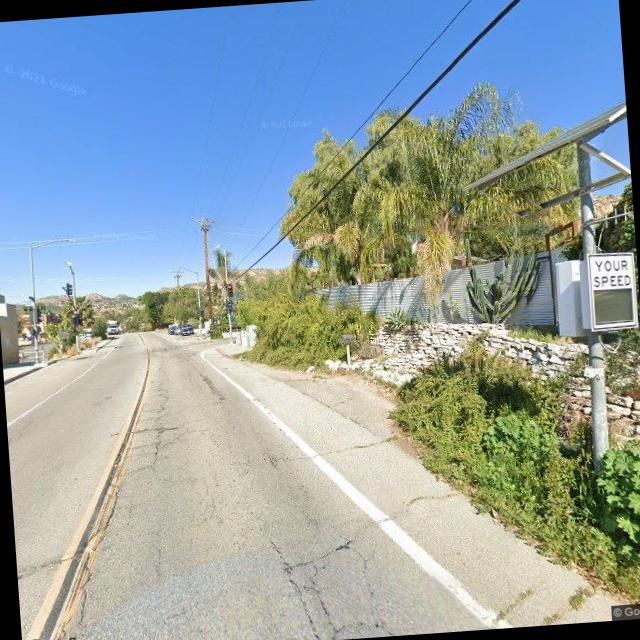crack: (265, 530, 398, 640), (119, 383, 194, 476)
